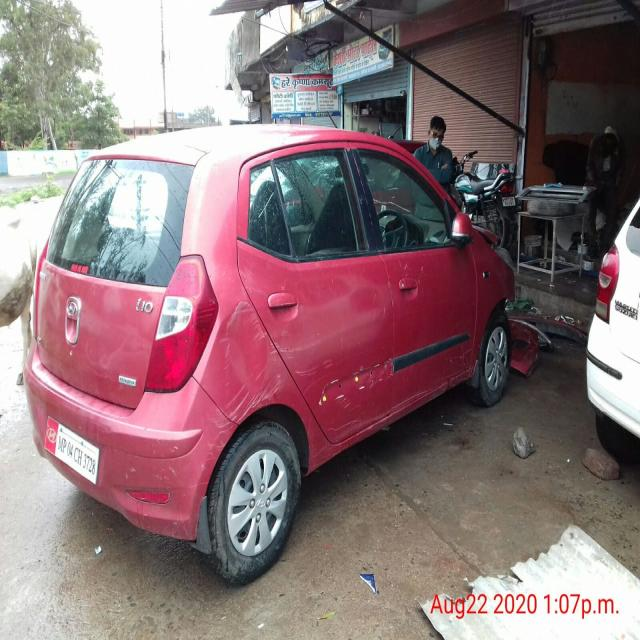damage: (218, 299, 281, 419), (320, 356, 395, 411), (280, 338, 318, 384), (199, 413, 234, 460), (442, 340, 475, 377), (258, 190, 276, 219)
